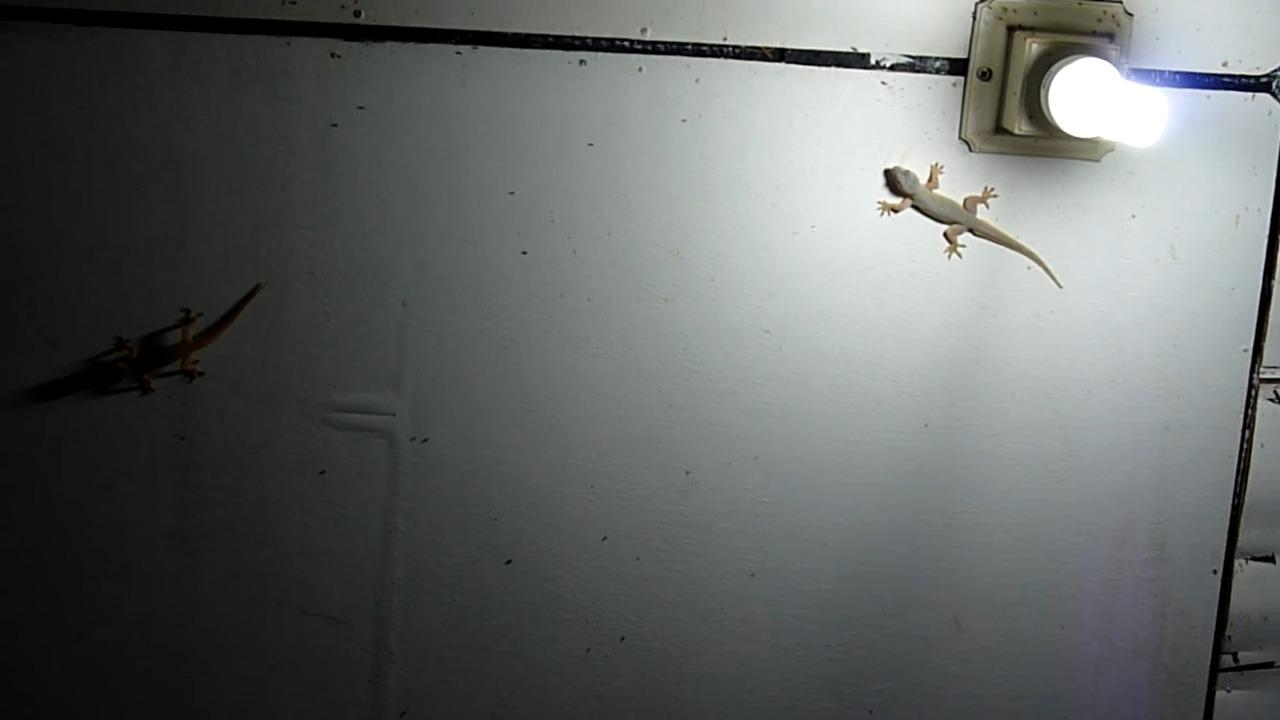lizard: (865, 154, 1071, 307), (77, 280, 280, 400)
